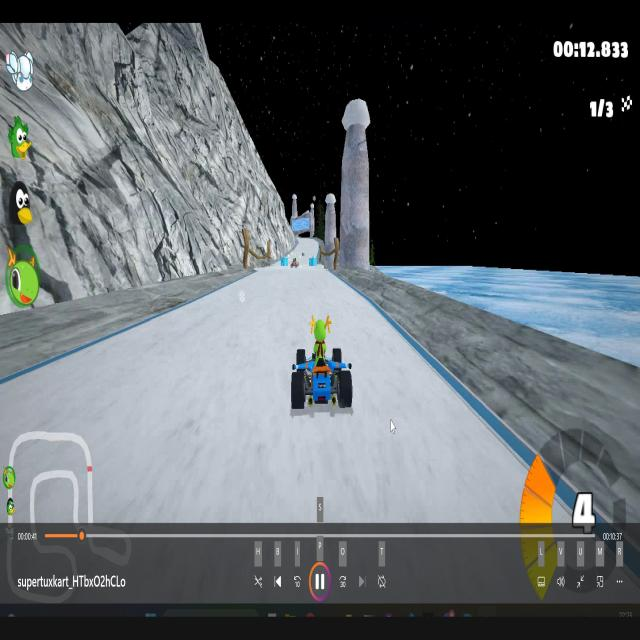player_kart: (290, 315, 354, 417)
track: (0, 390, 290, 517), (293, 458, 540, 528), (293, 417, 508, 457), (200, 294, 293, 368), (354, 364, 457, 410), (112, 337, 201, 383), (264, 266, 337, 302), (42, 353, 115, 386), (202, 368, 288, 394), (356, 335, 420, 364), (154, 317, 198, 341), (358, 304, 388, 331), (342, 284, 362, 312), (244, 268, 264, 296), (298, 234, 319, 252)
